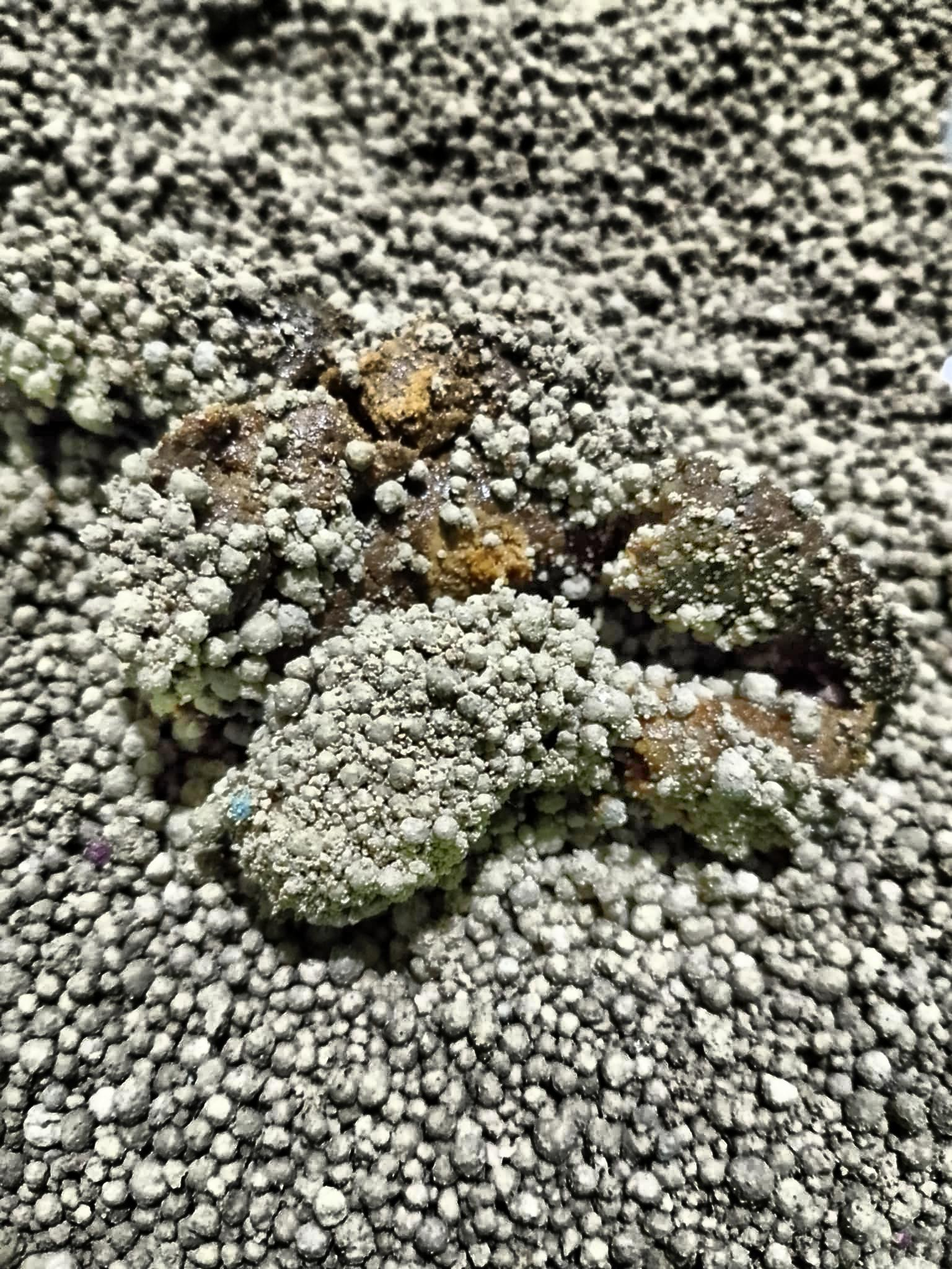poop: (0, 181, 921, 928)
